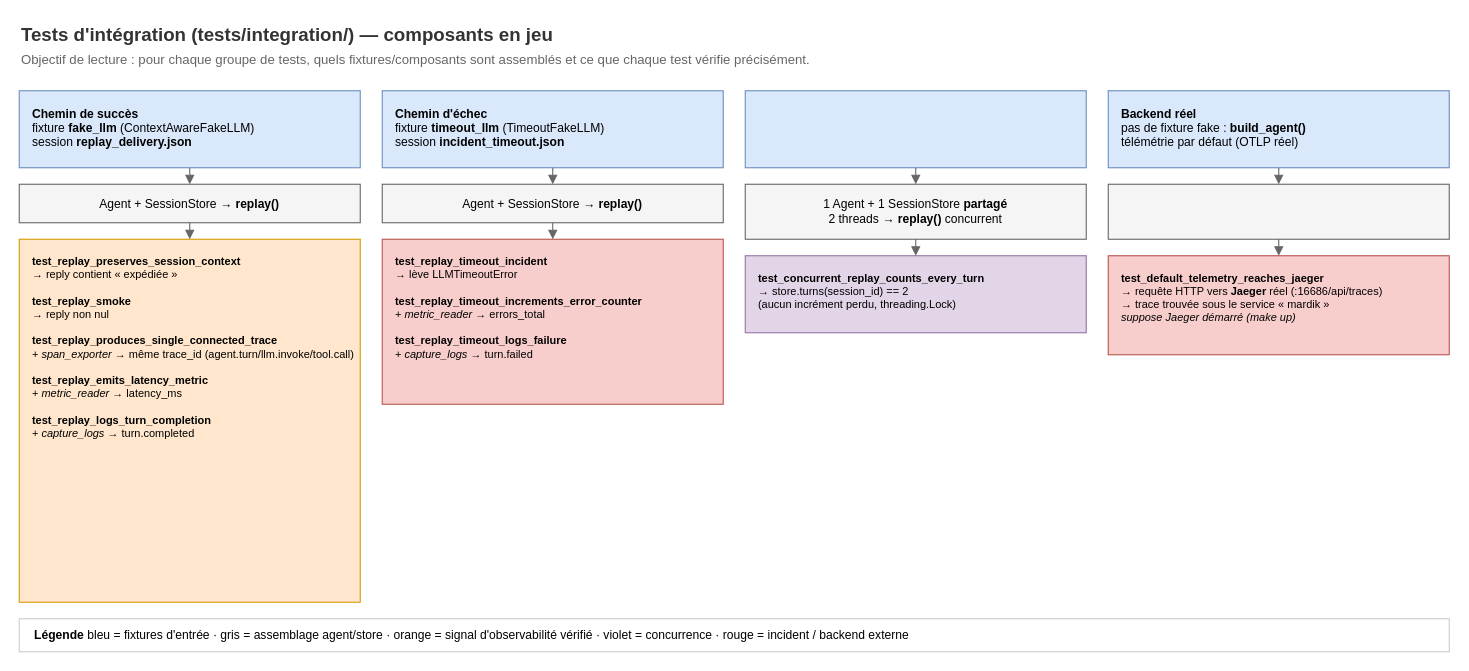
Some shapes in this 1469 by 671 pixel diagram are drawn without their labels. Here are the shapes that lost their labels. From the top down, the centre of each, then its label:
At (x=915, y=129): "Concurrence fixture fake_llm session incident_duplicate_delivery.json".
At (x=1278, y=211): "Agent → run_turn() (pas de replay : pas de fixture de session)".
